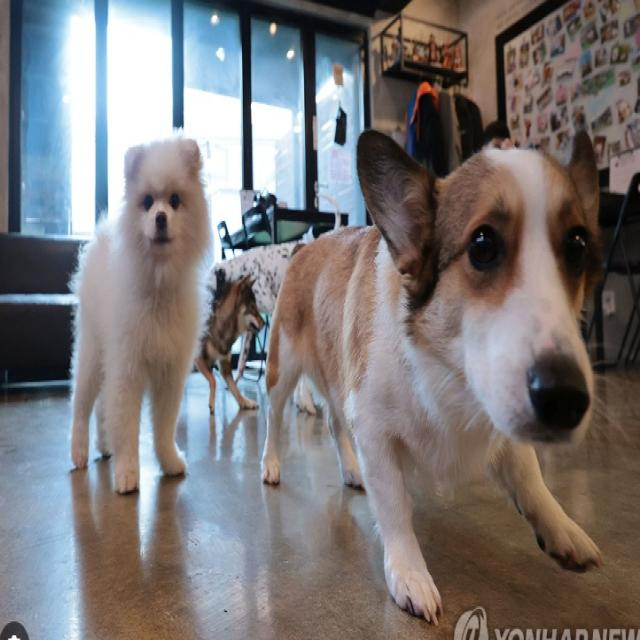dogs: (290, 126, 621, 586), (65, 122, 238, 508)
